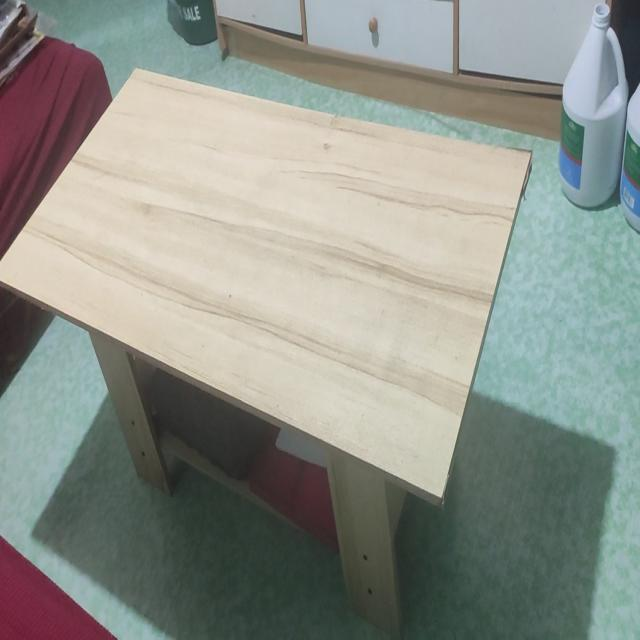table: (0, 58, 538, 632)
